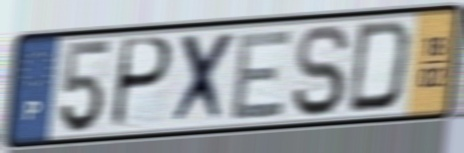5: (57, 37, 114, 136)
D: (344, 17, 415, 116)
E: (227, 26, 296, 124)
P: (107, 34, 175, 132)
S: (289, 21, 353, 119)
X: (167, 28, 239, 130)
